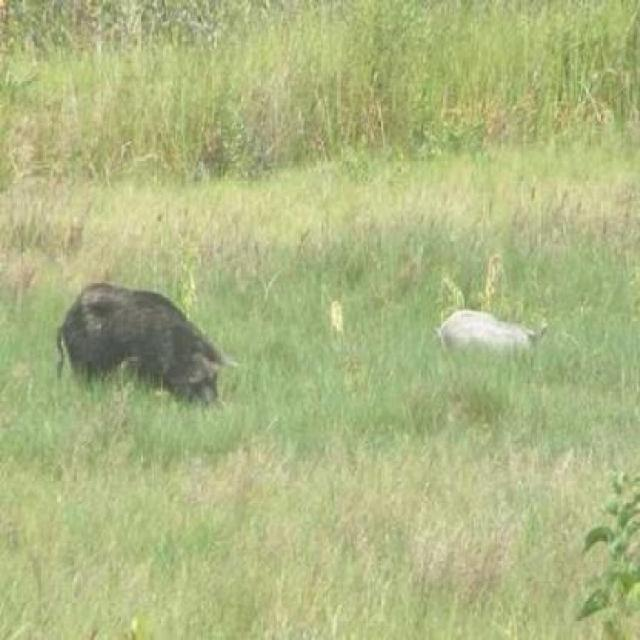pig: (8, 277, 236, 403)
